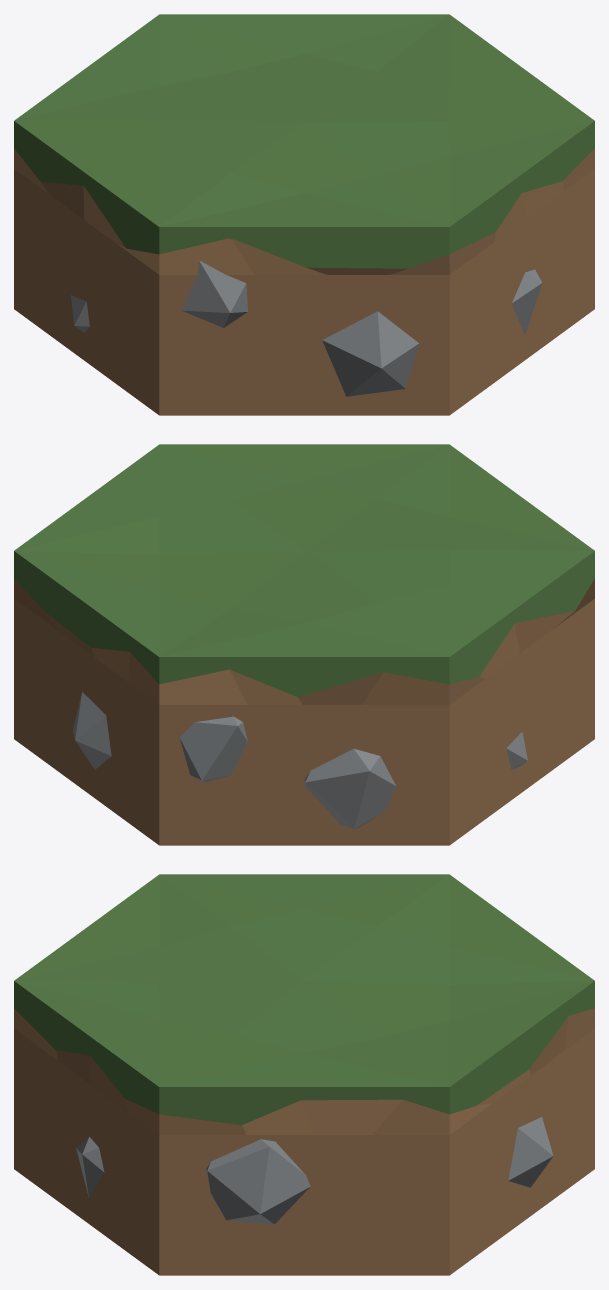
The picture shows the model from 3 angles, top to bottom: view 1: azimuth 30°, elevation 25°; view 2: azimuth 150°, elevation 25°; view 3: azimuth 270°, elevation 25°; orthographic projection.
Visible parts, largest first — view 1: Circle; view 2: Circle; view 3: Circle.
Boxes of the visible parts, x1,y1,x2,y2 form: Circle: [14, 14, 594, 415]; Circle: [14, 444, 594, 845]; Circle: [14, 874, 594, 1275].
Size of the model in its own units: 9399 by 3695 by 10000.
